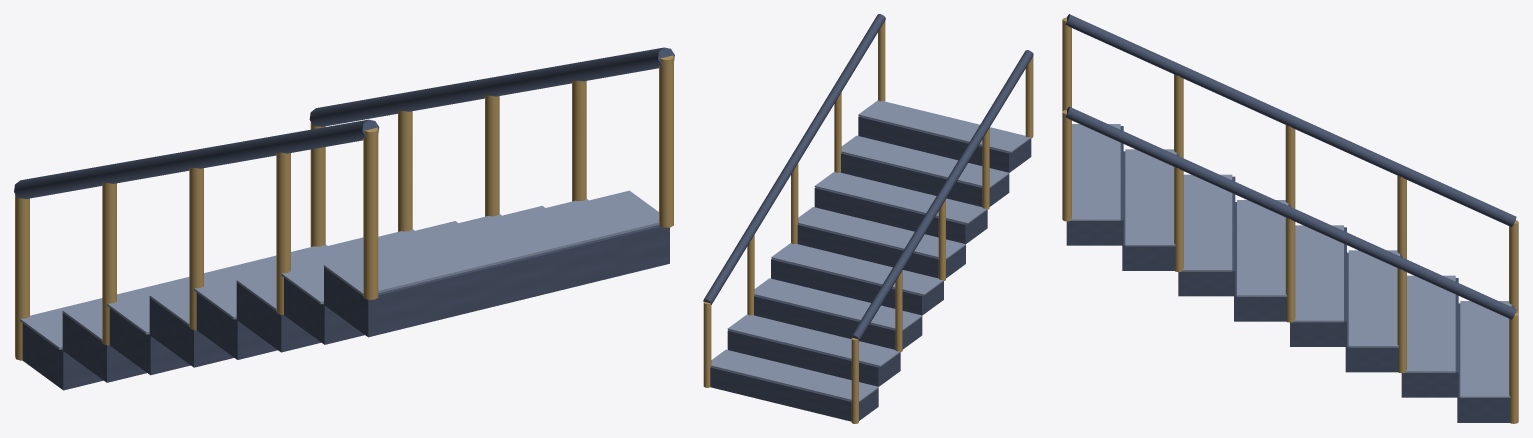
Rendered from stairs-straight.glb.
3 views of the same model, side by side, from view 1: azimuth 30°, elevation 25°; view 2: azimuth 150°, elevation 25°; view 3: azimuth 270°, elevation 25° (orthographic). The views are drawn at different scales.
Visible parts, largest first — view 1: stairs-straight_stone, stairs-straight_edge, stairs-straight_gold; view 2: stairs-straight_stone, stairs-straight_edge, stairs-straight_gold; view 3: stairs-straight_edge, stairs-straight_stone, stairs-straight_gold.
Part boxes in pixels (bbox=[...]): stairs-straight_stone: bbox=[14, 47, 674, 390]; stairs-straight_edge: bbox=[20, 190, 659, 349]; stairs-straight_gold: bbox=[15, 55, 673, 360]; stairs-straight_stone: bbox=[703, 14, 1033, 421]; stairs-straight_edge: bbox=[711, 100, 1030, 401]; stairs-straight_gold: bbox=[703, 16, 1033, 423]; stairs-straight_edge: bbox=[1070, 124, 1511, 397]; stairs-straight_stone: bbox=[1065, 14, 1516, 422]; stairs-straight_gold: bbox=[1062, 17, 1518, 423].
Size of the model in its own units: 1.66 by 2.49 by 3.27.
Materials: 3 (1 with a texture image).
